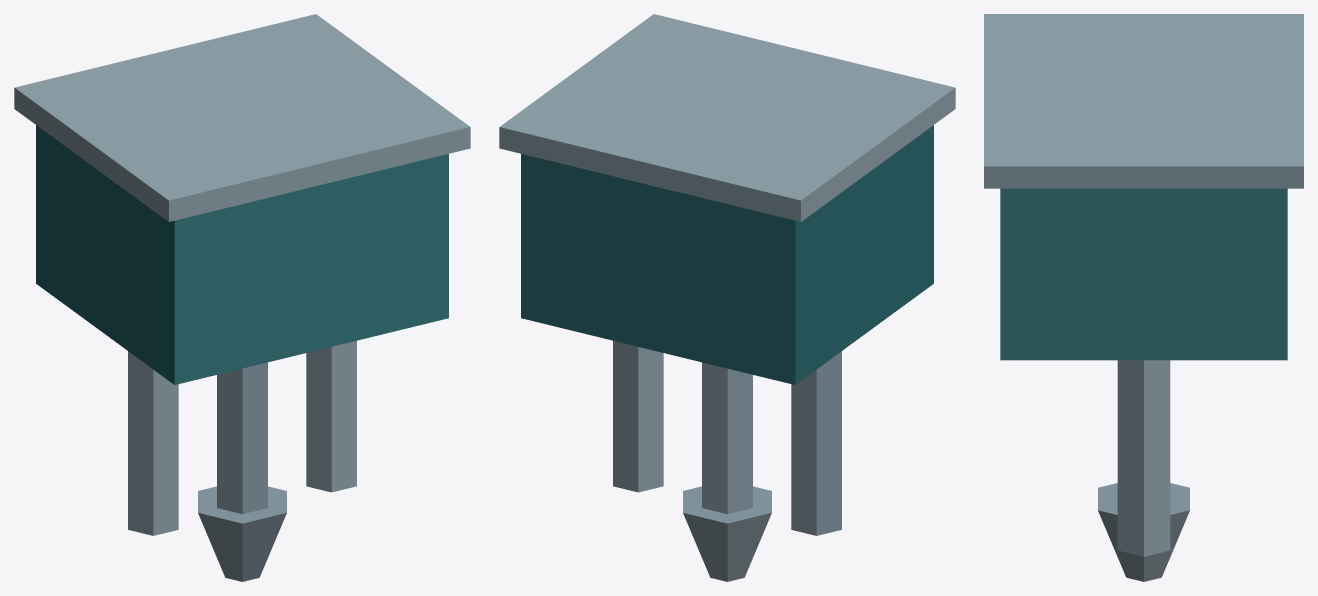
File: N05_Dispenser.fbx
3 views of the same model, side by side, from view 1: azimuth 30°, elevation 25°; view 2: azimuth 150°, elevation 25°; view 3: azimuth 270°, elevation 25° (orthographic). The views are drawn at different scales.
Parts seen in each view (by area): view 1: N05_Dispenser.010; view 2: N05_Dispenser.010; view 3: N05_Dispenser.010.
Part boxes in pixels (box(x1,y1,x2,y2)): N05_Dispenser.010: box(14, 14, 470, 581); N05_Dispenser.010: box(499, 14, 955, 581); N05_Dispenser.010: box(984, 14, 1303, 581).
Size of the model in its own units: 0.44 by 0.65 by 0.39.
